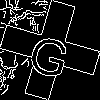G: (25, 25, 75, 81)
